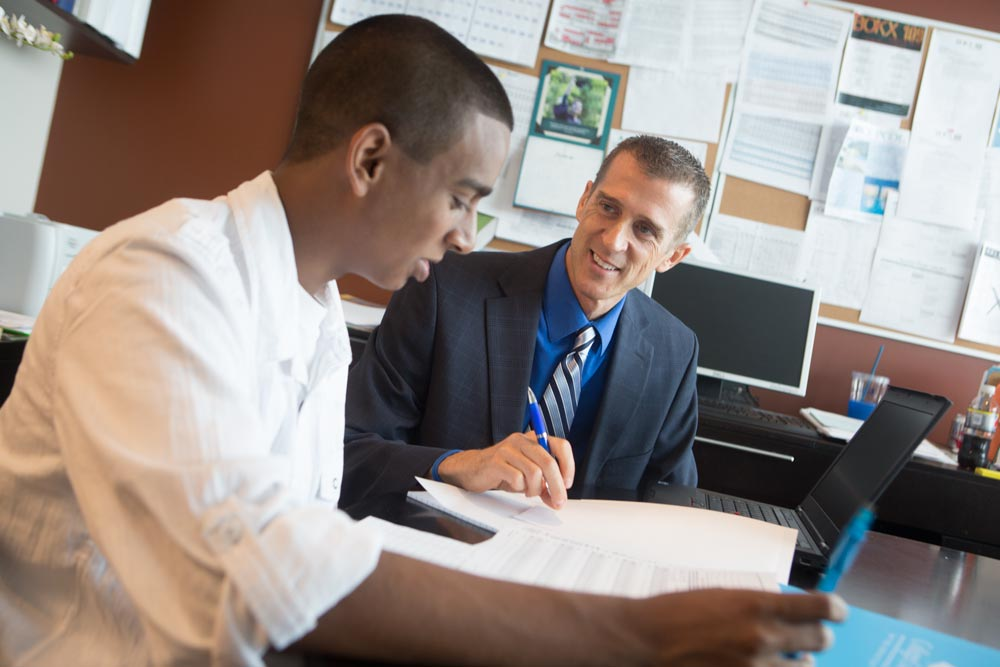Person: (15, 48, 500, 663), (500, 78, 725, 498)
